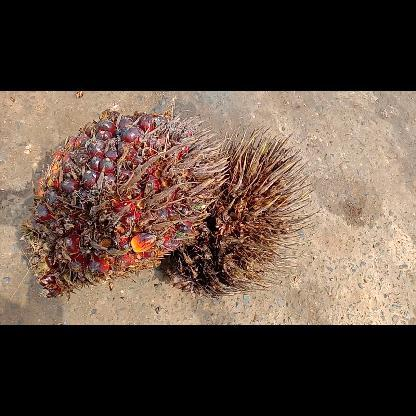Janjang kosong: (161, 126, 311, 294)
TBS masak: (21, 112, 229, 296)
